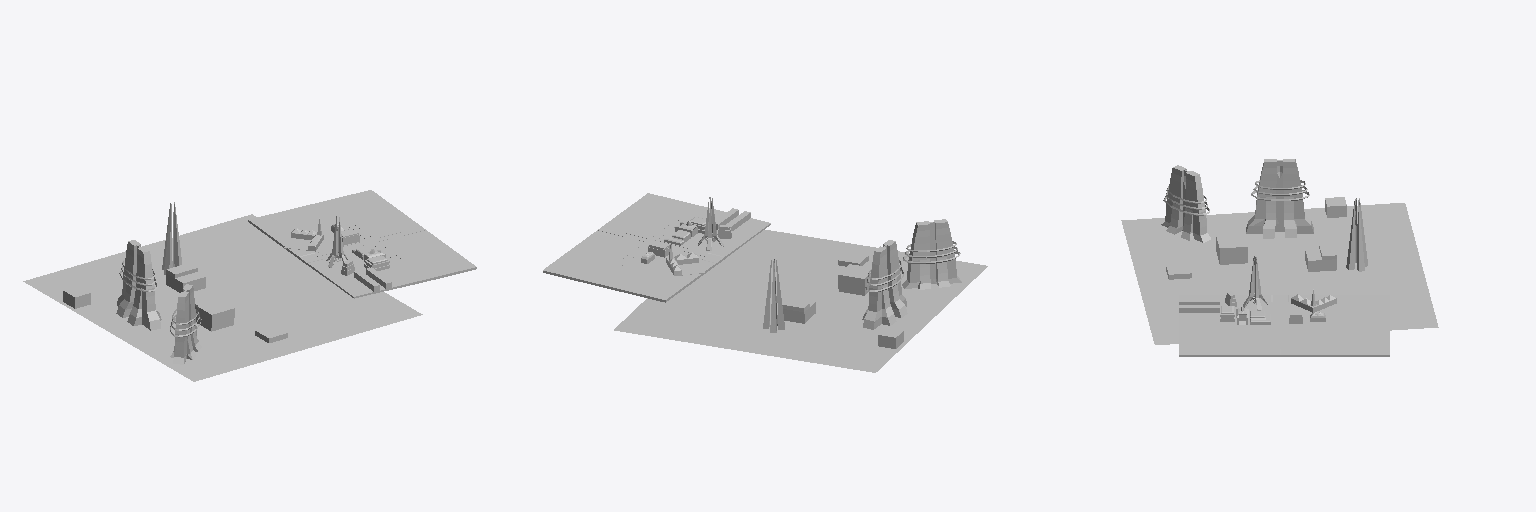
File: LevelBackground.obj
3 renders of one model, left to right at view 1: azimuth 30°, elevation 25°; view 2: azimuth 150°, elevation 25°; view 3: azimuth 270°, elevation 25°, orthographic.
Parts seen in each view (by area): view 1: pPlane1, pCube1, Tower, Tower3, Tower4, Level_3:pCube1; view 2: pPlane1, pCube1, Tower3, Tower, Tower4, Level_3:pCube1; view 3: pPlane1, pCube1, Tower, Tower3, Tower4, Level_3:pCube1.
Boxes of the visible parts, x1,y1,x2,y2 form: pPlane1: [23, 214, 422, 381]; pCube1: [248, 190, 476, 298]; Tower: [116, 240, 161, 330]; Tower3: [170, 284, 201, 364]; Tower4: [162, 202, 181, 274]; Level_3:pCube1: [284, 218, 323, 251]; pPlane1: [614, 230, 987, 372]; pCube1: [543, 193, 770, 302]; Tower3: [902, 219, 961, 289]; Tower: [862, 240, 907, 329]; Tower4: [763, 259, 784, 332]; Level_3:pCube1: [666, 245, 704, 275]; pPlane1: [1121, 197, 1438, 344]; pCube1: [1179, 291, 1389, 356]; Tower: [1246, 159, 1313, 238]; Tower3: [1161, 165, 1210, 242]; Tower4: [1346, 198, 1367, 271]; Level_3:pCube1: [1291, 289, 1336, 312].
Bounding box in the file's own units: 1043 × 225 × 842.